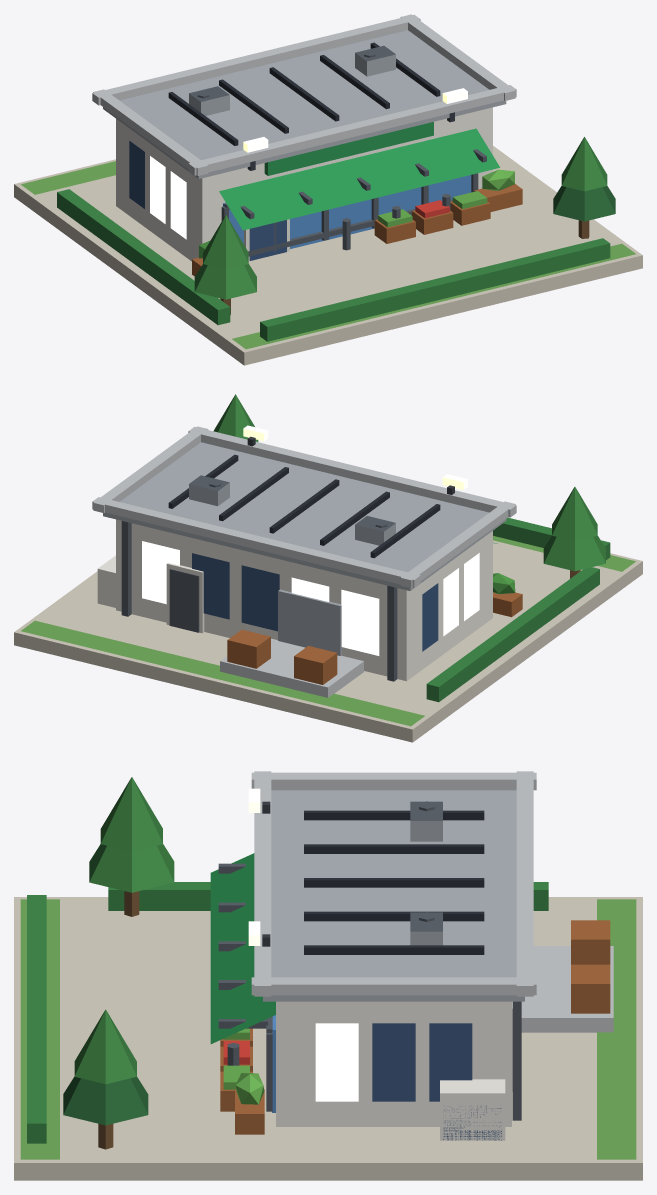
3 views of the same model, one above another, from view 1: azimuth 30°, elevation 25°; view 2: azimuth 150°, elevation 25°; view 3: azimuth 270°, elevation 25° (orthographic). The views are drawn at different scales.
Visible parts, largest first — view 1: b13; view 2: b13; view 3: b13.
Boxes of the visible parts, x1,y1,x2,y2 form: b13: (14,14,642,365); b13: (14,394,642,742); b13: (14,771,642,1180).
Size of the model in its own units: 0.99 by 0.313 by 0.96.
